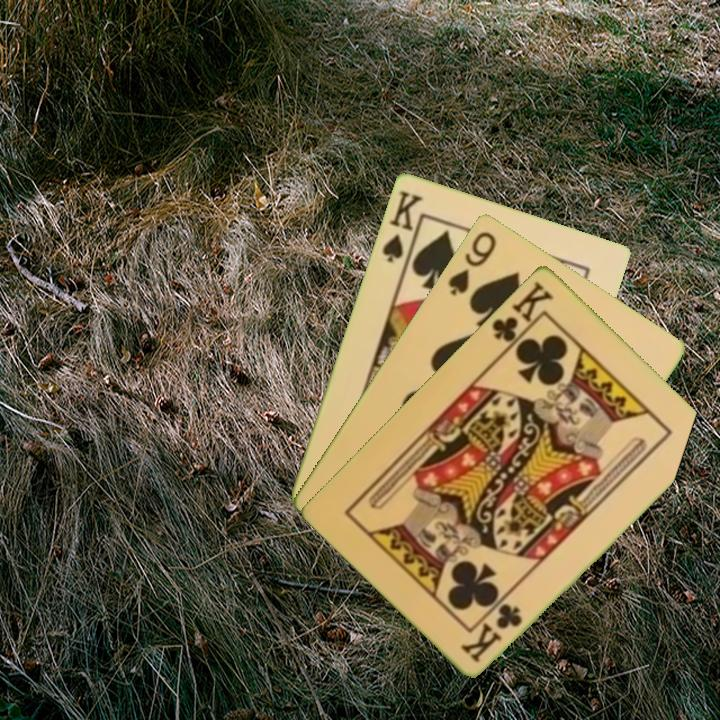9s: (444, 227, 499, 299)
Kc: (488, 277, 556, 353), (458, 599, 526, 665)
Ks: (378, 186, 426, 269)
